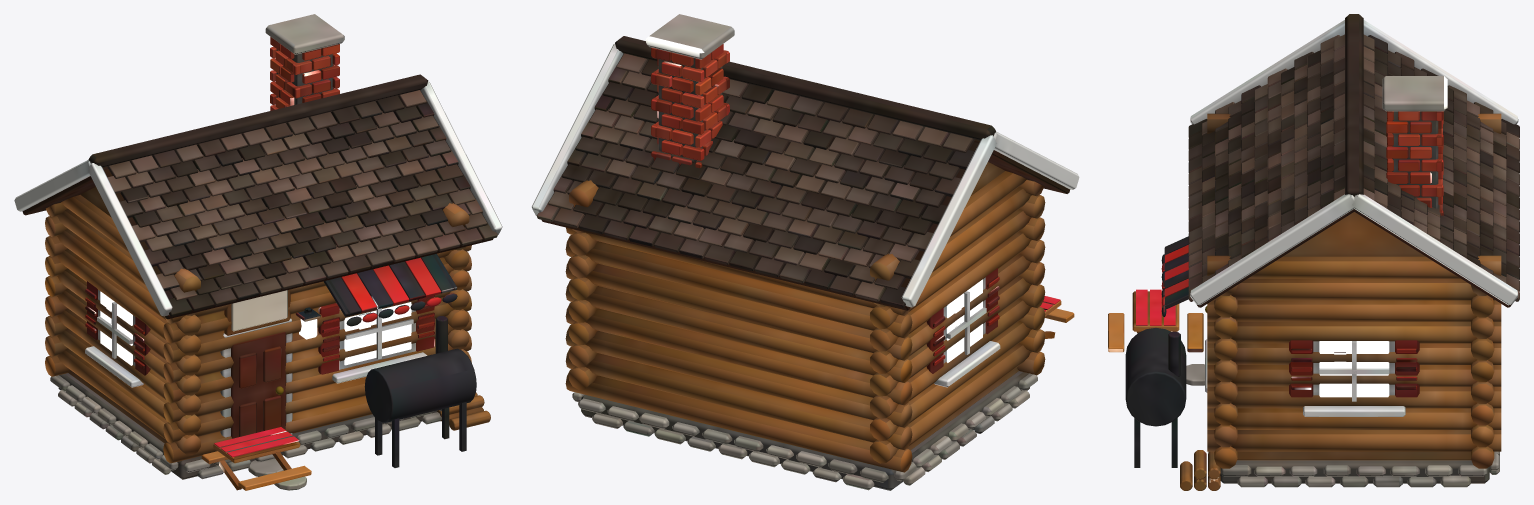
The model's file is bbq_grill.glb.
3 views of the same model, side by side, from view 1: azimuth 30°, elevation 25°; view 2: azimuth 150°, elevation 25°; view 3: azimuth 270°, elevation 25° (orthographic). The views are drawn at different scales.
Parts seen in each view (by area): view 1: bbq_grill; view 2: bbq_grill; view 3: bbq_grill.
Part boxes in pixels (x1=…): bbq_grill: x1=14, y1=14, x2=502, y2=490; bbq_grill: x1=531, y1=14, x2=1079, y2=490; bbq_grill: x1=1108, y1=14, x2=1519, y2=490.
Size of the model in its own units: 1.82 by 1.72 by 1.76.
1 material, 1 textured.
